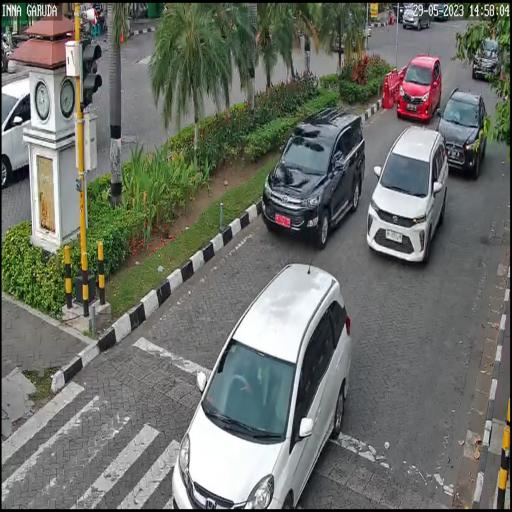mobil: (171, 262, 354, 510), (262, 103, 365, 250), (368, 124, 447, 266), (438, 86, 489, 179), (397, 54, 441, 122)
